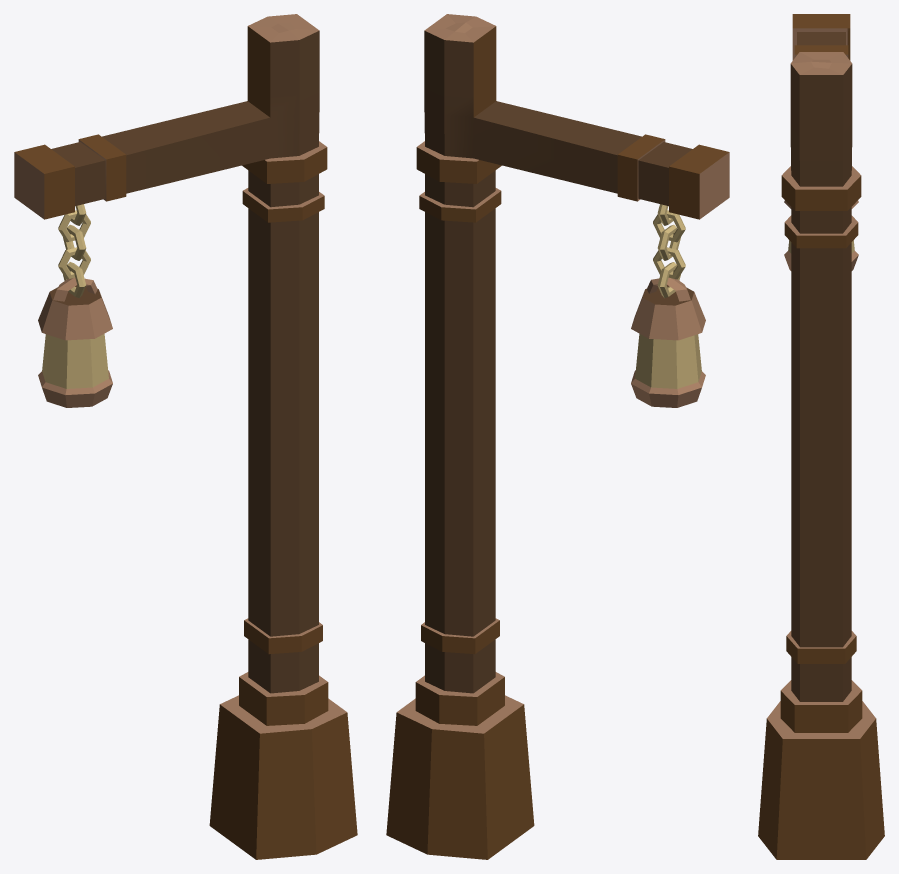
Rendered from Lantern.fbx.
3 views of the same model, side by side, from view 1: azimuth 30°, elevation 25°; view 2: azimuth 150°, elevation 25°; view 3: azimuth 270°, elevation 25° (orthographic). The views are drawn at different scales.
Parts seen in each view (by area): view 1: Lantern; view 2: Lantern; view 3: Lantern.
Boxes of the visible parts, box(x1,y1,x2,y2) form: Lantern: box(14, 14, 357, 859); Lantern: box(386, 14, 729, 859); Lantern: box(758, 14, 884, 859).
Size of the model in its own units: 245 by 616 by 91.5.
Materials: 1 (1 with a texture image).
